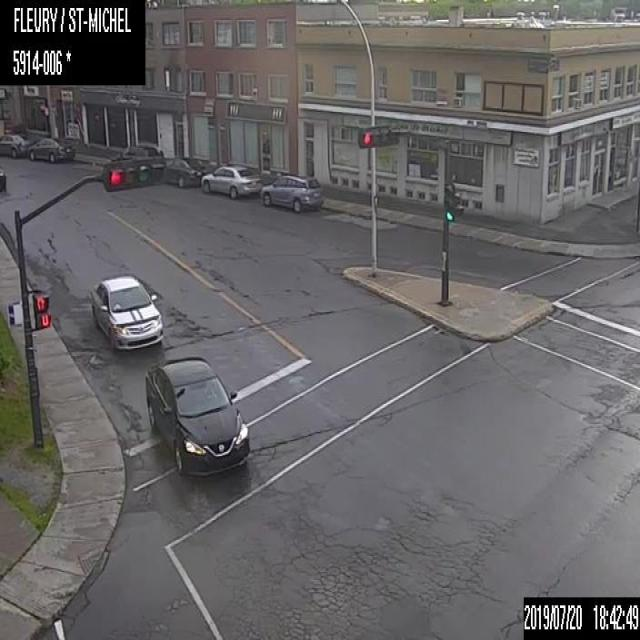vehicle: (143, 355, 249, 476), (89, 273, 163, 351), (260, 170, 322, 213), (200, 158, 262, 197), (26, 131, 73, 164), (165, 153, 204, 187), (0, 130, 30, 158)
